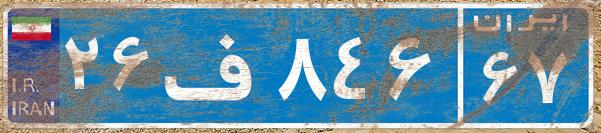2: (57, 26, 110, 107)
4: (330, 28, 385, 110)
6: (385, 28, 445, 110), (475, 38, 525, 113), (110, 28, 158, 105)
7: (525, 38, 570, 115)
8: (273, 28, 330, 110)
ف: (158, 15, 273, 115)
